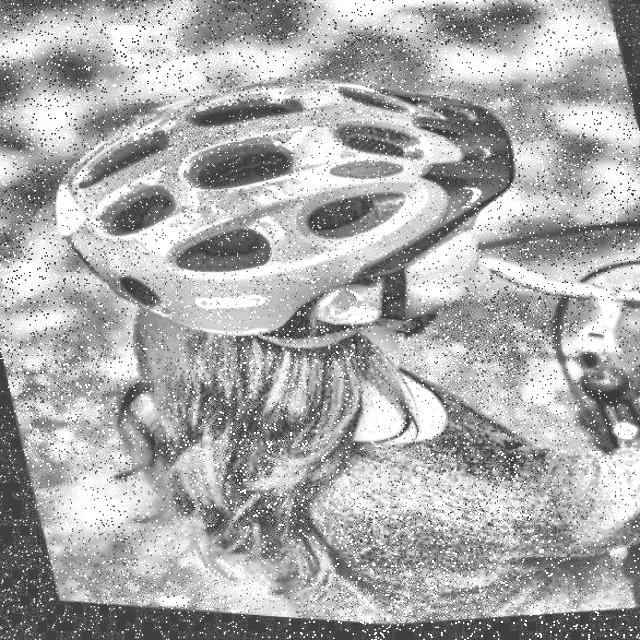Helmet: (0, 26, 571, 410)
